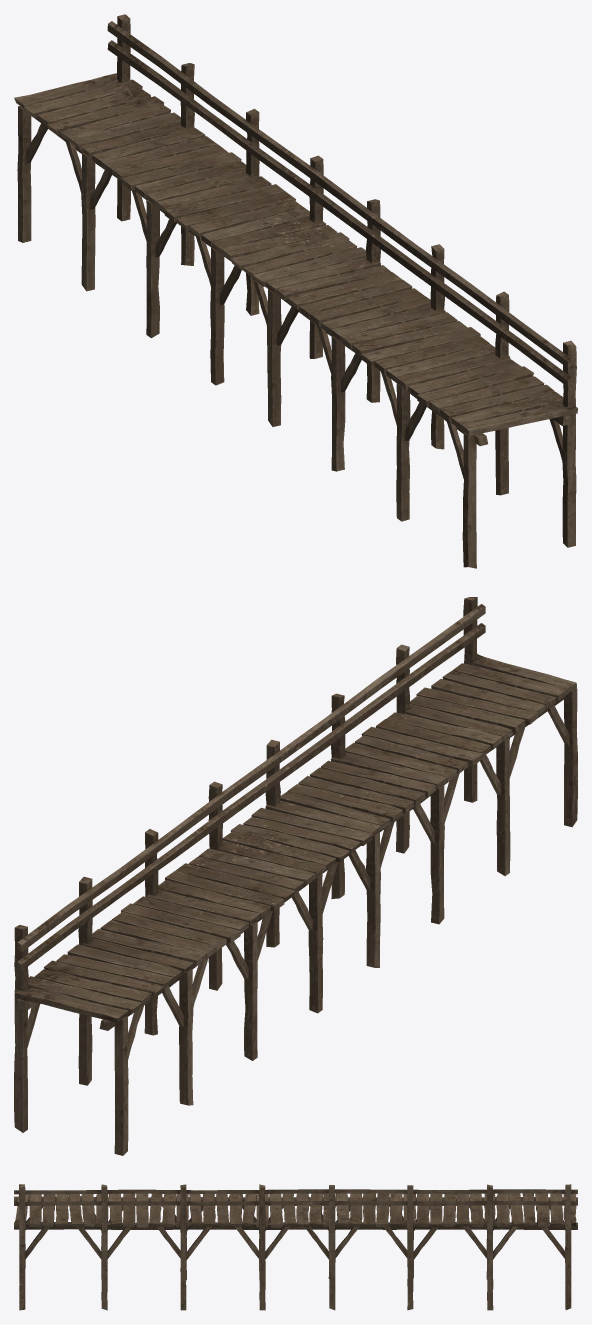
File: old_bridge.glb
The picture shows the model from 3 angles, top to bottom: view 1: azimuth 30°, elevation 25°; view 2: azimuth 150°, elevation 25°; view 3: azimuth 270°, elevation 25°; orthographic projection. The views are drawn at different scales.
Visible parts, largest first — view 1: defaultMaterial; view 2: defaultMaterial; view 3: defaultMaterial.
Part boxes in pixels (left/top/right/bottom): defaultMaterial: left=14, top=14, right=577, bottom=568; defaultMaterial: left=14, top=597, right=577, bottom=1155; defaultMaterial: left=14, top=1184, right=577, bottom=1310.
Bounding box in the file's own units: 263 × 460 × 1900.
1 material, 1 textured.
